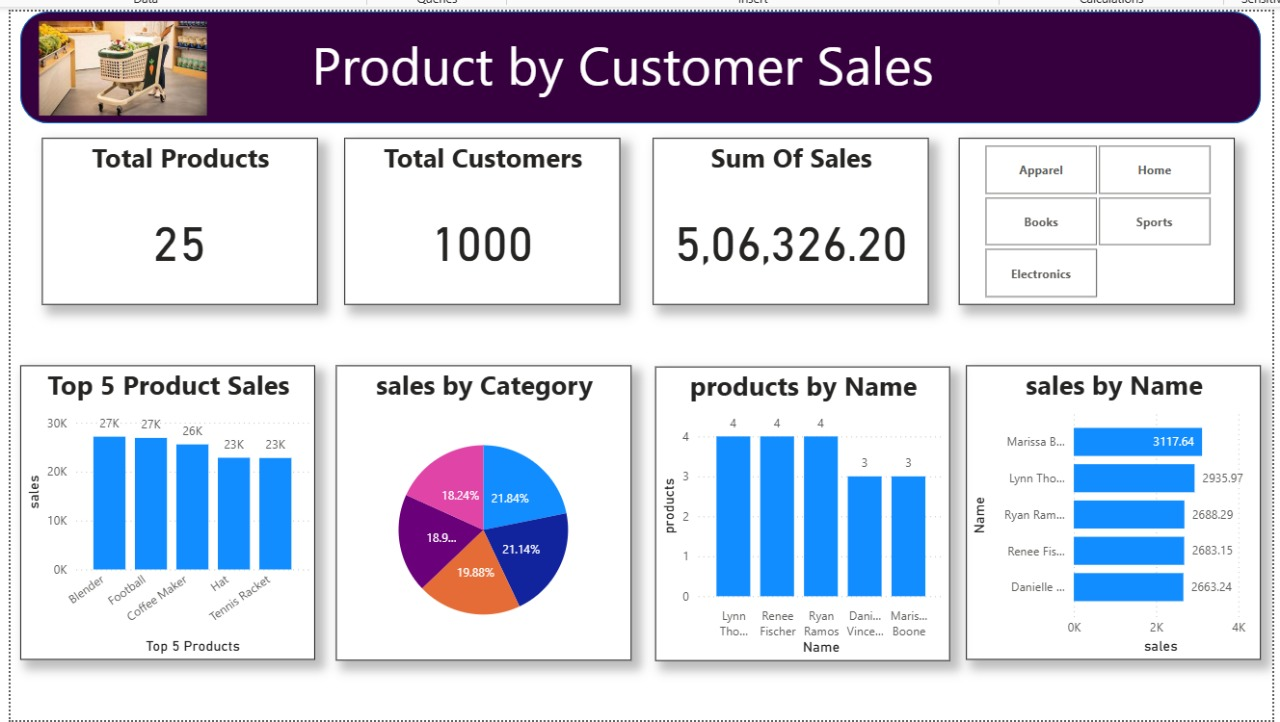

The page's visual inventory and layout, read from the dashboard file:
{"tool":"powerbi","page":{"name":"Page 1","canvas":[1280,720],"ordinal":0},"visuals":[{"type":"card","title":"Total Customers","fields":{"Values":["customers.customers"]},"box":[338.7,128.4,280,170],"z":0},{"type":"card","title":"Total Products","fields":{"Values":["customers.products"]},"box":[31.8,128.4,280,170],"z":1000},{"type":"pieChart","fields":{"Category":["products.Category"],"Y":["customers.sales"]},"box":[330.2,359.5,300,300],"z":2000},{"type":"clusteredColumnChart","title":"Top 5  Product Sales","fields":{"Category":["products.ProductName"],"Y":["customers.sales"]},"box":[9.8,359.5,299.6,299.6],"z":3000},{"type":"barChart","fields":{"Category":["customers.Name"],"Y":["customers.sales"]},"box":[969.7,359.5,299.6,299.6],"z":4000},{"type":"card","title":"Sum Of Sales","fields":{"Values":["customers.sales"]},"box":[651.8,128.4,280,170],"z":5000},{"type":"columnChart","fields":{"Category":["customers.Name"],"Y":["customers.products"]},"box":[654.2,360.7,299.6,299.6],"z":6000},{"type":"slicer","fields":{"Values":["products.Category"]},"box":[962.4,128.4,280,170],"z":7000},{"type":"shape","box":[9.8,0,1259.5,113.7],"z":8000},{"type":"textbox","box":[300.9,12.4,766.4,89],"z":9000},{"type":"image","box":[0,4.5,227.7,105.9],"z":10000}]}

Visuals, with their boxes in screenshot pixels (x1, y1, x2, y2):
"Total Customers" card: [341,133,617,301]
"Total Products" card: [38,133,314,301]
pieChart - products.Category x customers.sales: [332,361,628,657]
"Top 5  Product Sales" clusteredColumnChart: [16,361,312,657]
barChart - customers.Name x customers.sales: [963,361,1258,657]
"Sum Of Sales" card: [649,133,926,301]
columnChart - customers.Name x customers.products: [652,362,947,658]
slicer - products.Category: [956,133,1232,301]
shape: [16,7,1258,119]
textbox: [303,19,1059,107]
image: [7,11,231,116]
